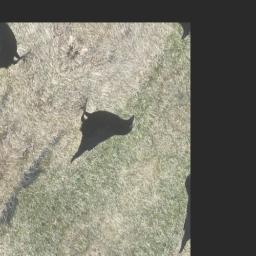Crow: (55, 82, 141, 185)
